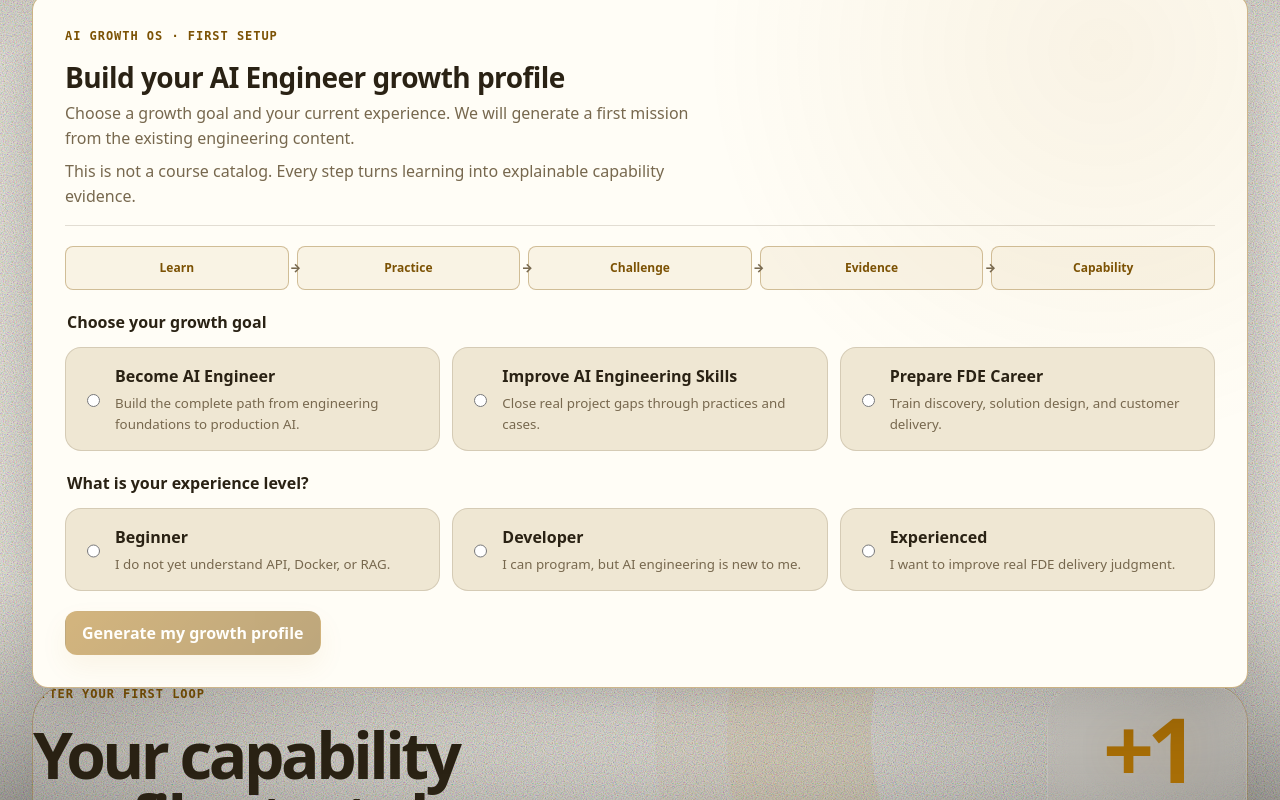
it: Slice A product pages › keeps an in-progress learner focused on profile setup and the Foundation-first mission
The width and height of the screenshot is (1280, 800).
(page scrolled)
Expected: the heading "Build your AI Engineer growth profile" is shown, [65, 58, 565, 96]
Click the radio button labelled "Become AI Engineer": (94,401) [87, 367, 100, 434]
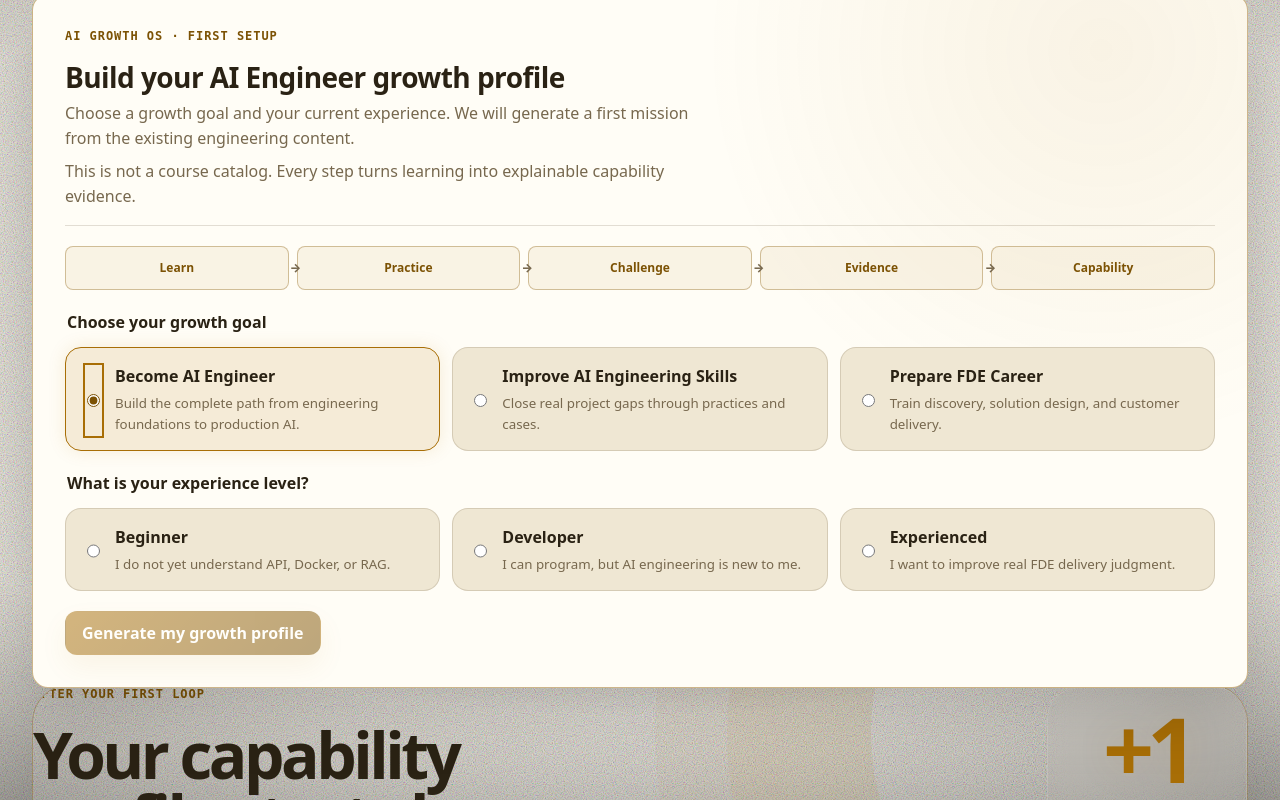
Click the radio button labelled "Beginner I do not yet understand API, Docker, or RAG.": (94,551) [87, 528, 100, 574]
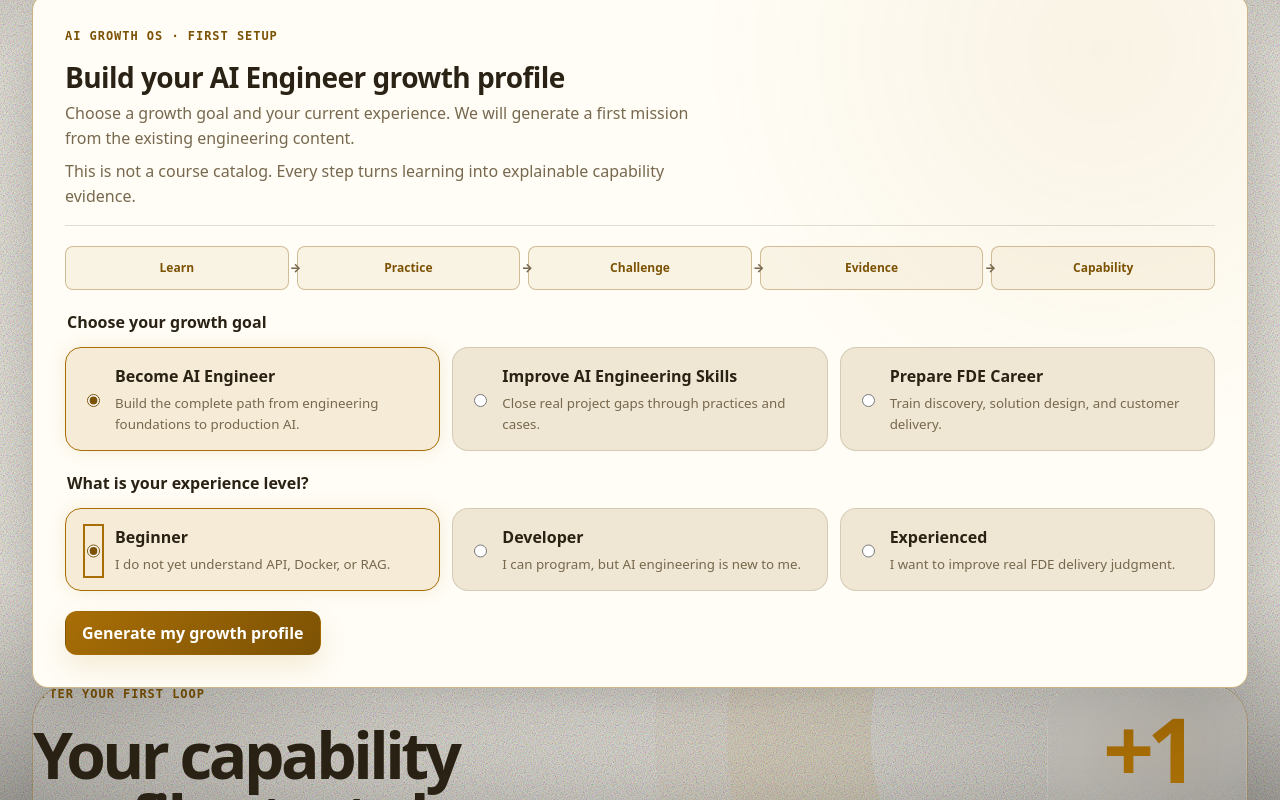
Click the button "Generate my growth profile": (193,633) [65, 611, 320, 655]
(page scrolled)
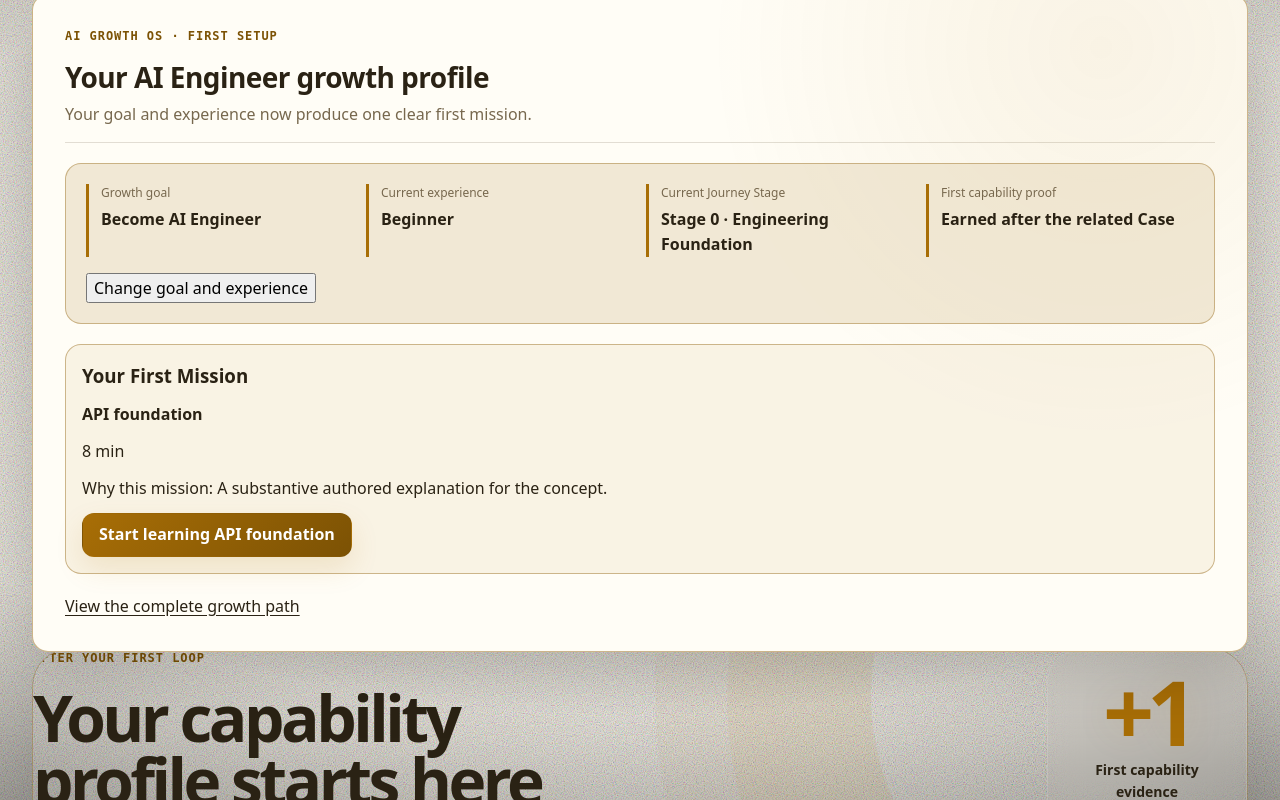
Now the element "Your First Mission" shows "API foundation", box [82, 403, 203, 425]
